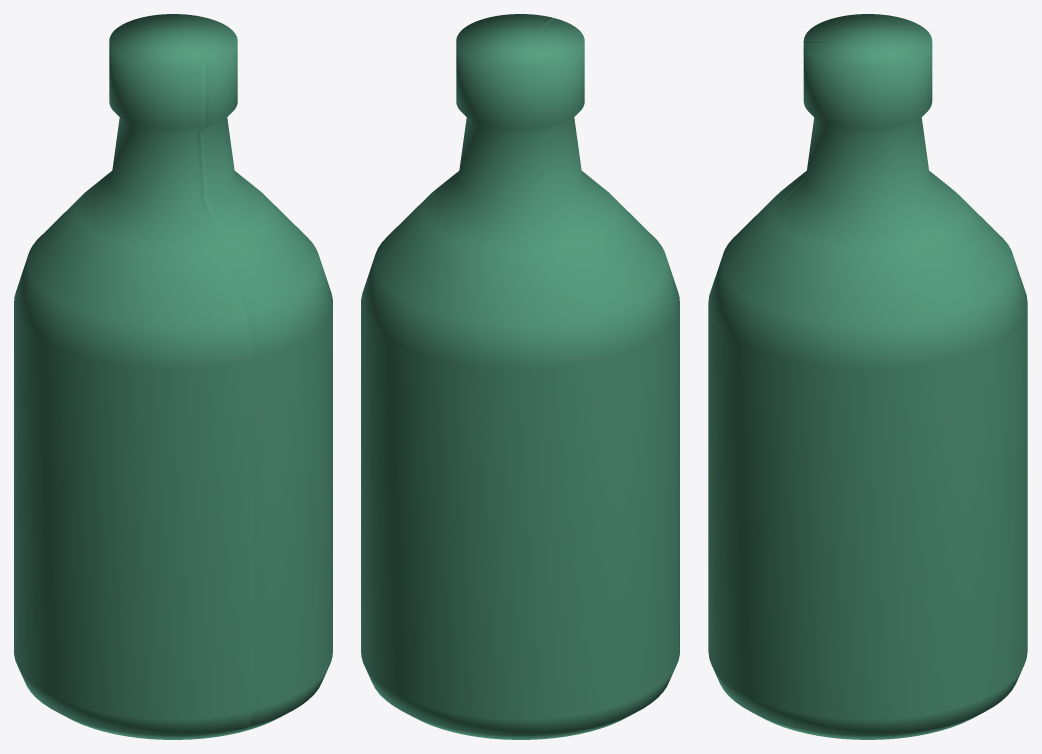
Rendered from bottle.glb.
3 views of the same model, side by side, from view 1: azimuth 30°, elevation 25°; view 2: azimuth 150°, elevation 25°; view 3: azimuth 270°, elevation 25° (orthographic).
Visible parts, largest first — view 1: bottle; view 2: bottle; view 3: bottle.
Part boxes in pixels (box(x1,y1,x2,y2)): bottle: box(14, 14, 332, 739); bottle: box(361, 14, 679, 739); bottle: box(708, 14, 1027, 739).
Size of the model in its own units: 0.72 by 1.6 by 0.72.
